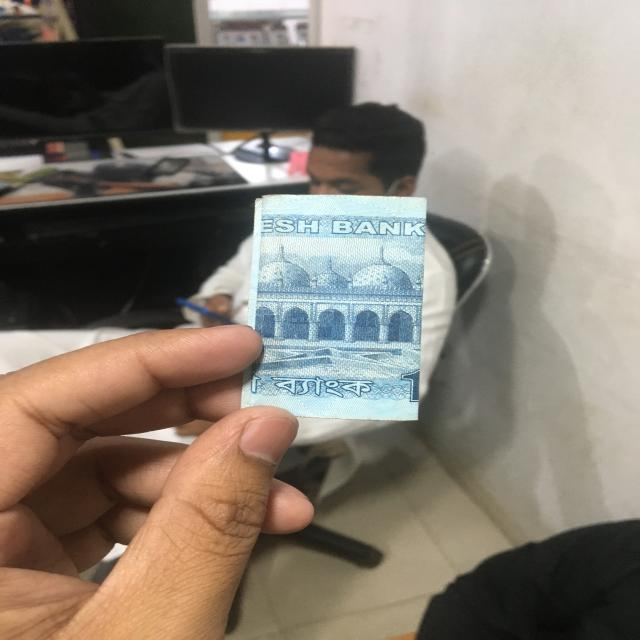Taka: (247, 192, 420, 426)
